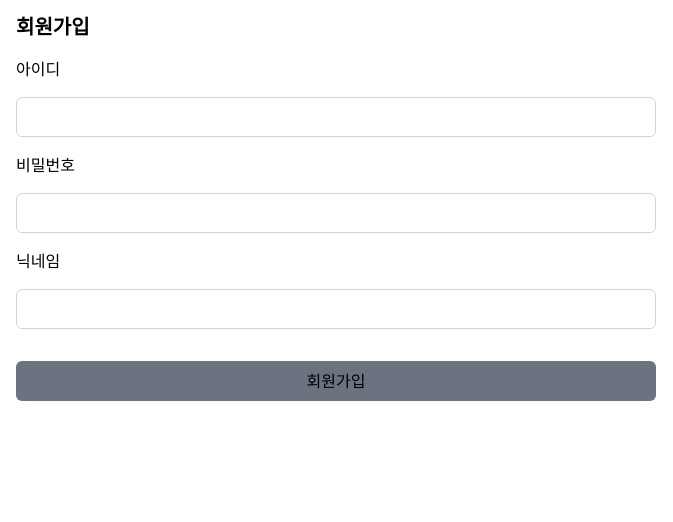
Test: Authform Component › 유효성 검사
Step 1. Click the button "회원가입" → (336, 381), box [16,361,656,401]
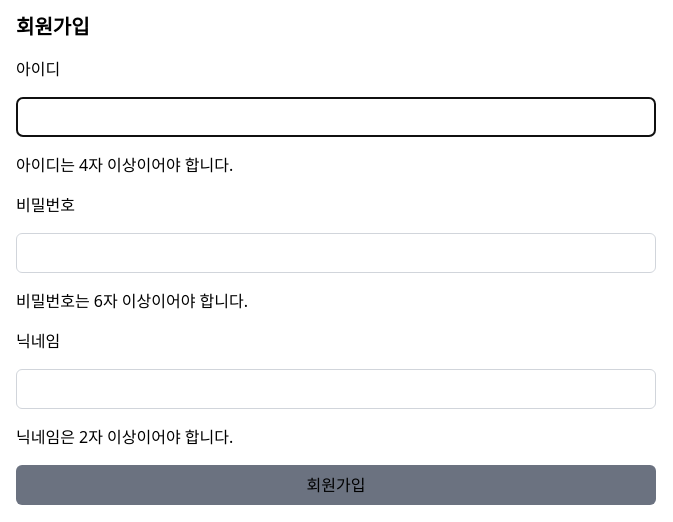
Expected: the text "아이디는 4자 이상이어야 합니다." is shown, [16,154,233,176]
Expected: the text "비밀번호는 6자 이상이어야 합니다." is shown, [16,290,248,312]
Expected: the text "닉네임은 2자 이상이어야 합니다." is shown, [16,426,233,448]
